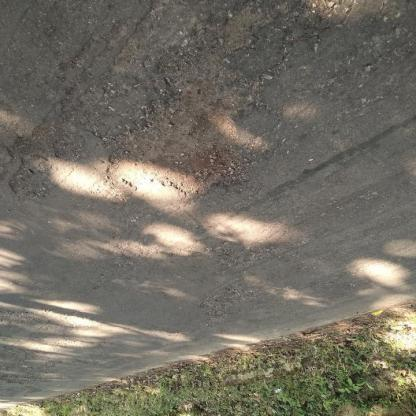pothole: (108, 48, 257, 202)
